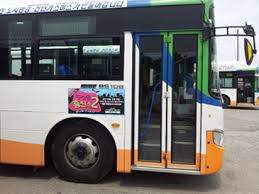entrance: (133, 29, 201, 171)
